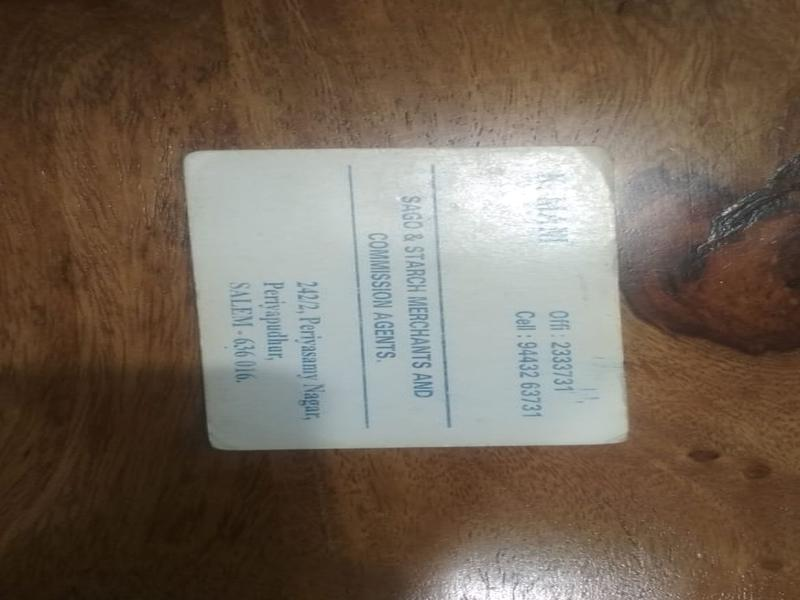card: (183, 142, 625, 453)
